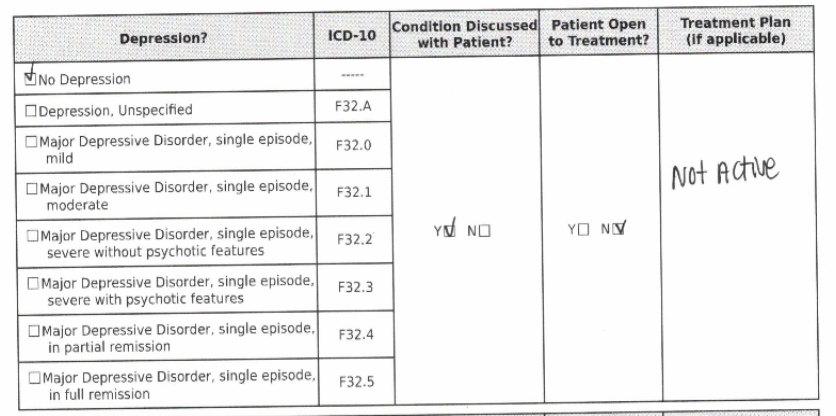checked: (613, 217, 634, 240), (443, 216, 458, 240), (22, 64, 37, 87)
